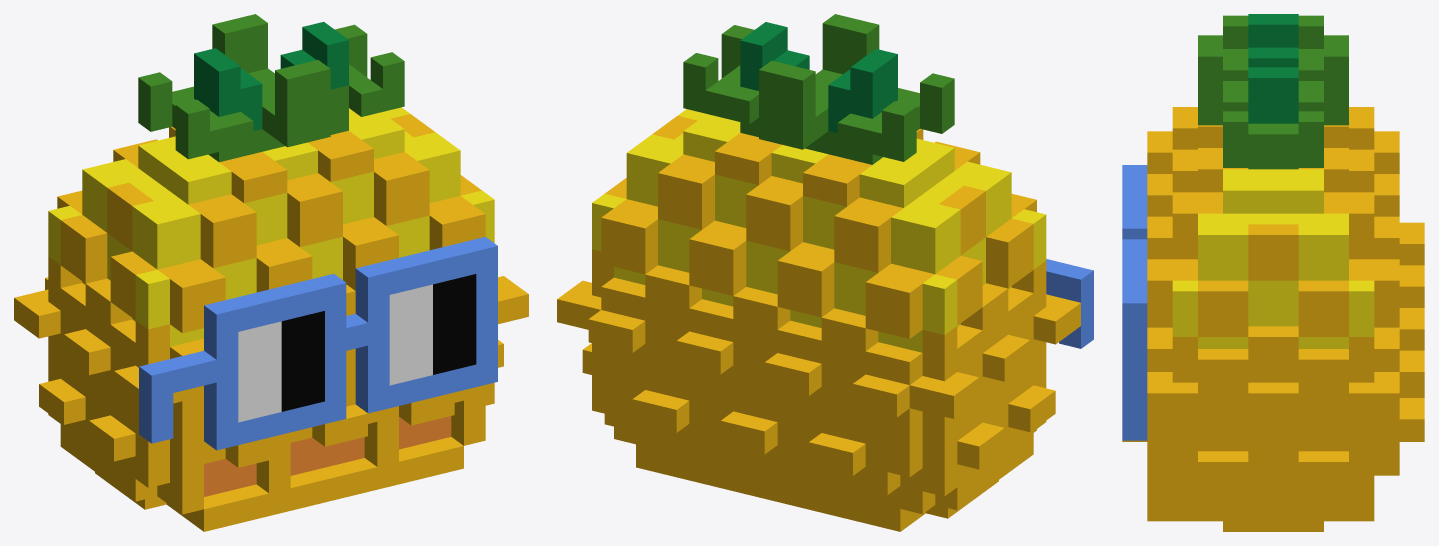
Rendered from PinappleHeadNoAnim.glb.
3 views of the same model, side by side, from view 1: azimuth 30°, elevation 25°; view 2: azimuth 150°, elevation 25°; view 3: azimuth 270°, elevation 25° (orthographic).
Parts seen in each view (by area): view 1: HeadPinapple, Glasses; view 2: HeadPinapple, Glasses; view 3: HeadPinapple, Glasses.
Part boxes in pixels (x1,y1,x2,y2): HeadPinapple: [14, 14, 528, 531]; Glasses: [139, 237, 497, 450]; HeadPinapple: [557, 14, 1080, 531]; Glasses: [1046, 259, 1093, 348]; HeadPinapple: [1122, 14, 1424, 531]; Glasses: [1122, 165, 1147, 440].
Bounding box in the file's own units: 18 × 18 × 12.
2 materials, 2 textured.
